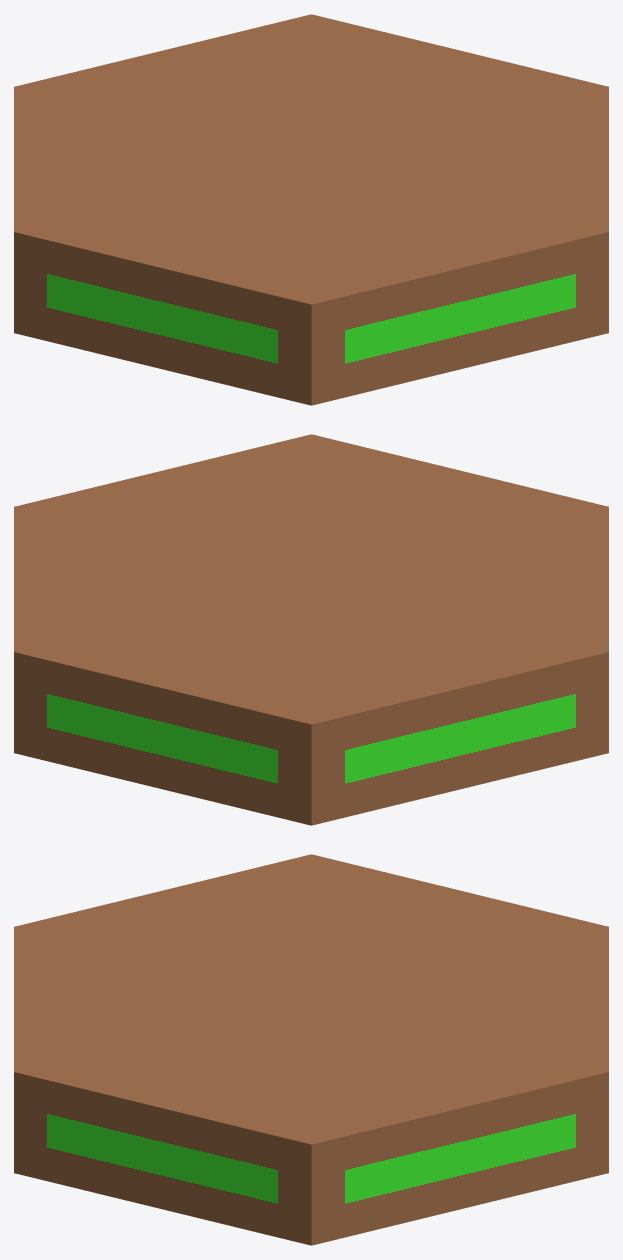
File: hex-neutral.glb
3 renders of one model, top to bottom at view 1: azimuth 30°, elevation 25°; view 2: azimuth 150°, elevation 25°; view 3: azimuth 270°, elevation 25°, orthographic.
Visible parts, largest first — view 1: cylinder; view 2: cylinder; view 3: cylinder.
Boxes of the visible parts, <box> form: cylinder: <box>14,14,608,405</box>; cylinder: <box>14,434,608,825</box>; cylinder: <box>14,854,608,1245</box>.
Size of the model in its own units: 1.15 by 0.1875 by 1.
1 material, 1 textured.
